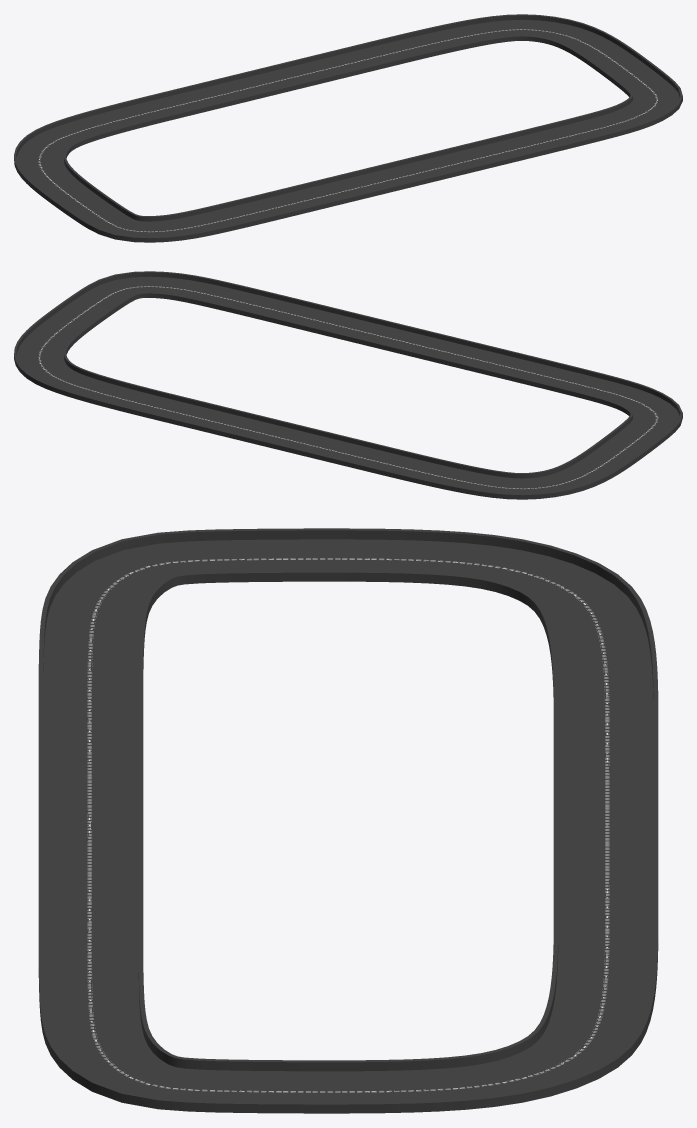
Rendered from road.fbx.
3 views of the same model, one above another, from view 1: azimuth 30°, elevation 25°; view 2: azimuth 150°, elevation 25°; view 3: azimuth 270°, elevation 25° (orthographic). The views are drawn at different scales.
Parts seen in each view (by area): view 1: Plane; view 2: Plane; view 3: Plane.
Boxes of the visible parts, left/top/right/bottom form: Plane: left=14, top=14, right=682, bottom=242; Plane: left=14, top=271, right=682, bottom=499; Plane: left=38, top=528, right=658, bottom=1113.
Size of the model in its own units: 2861 by 20.86 by 1301.
Materials: 1 (1 with a texture image).
